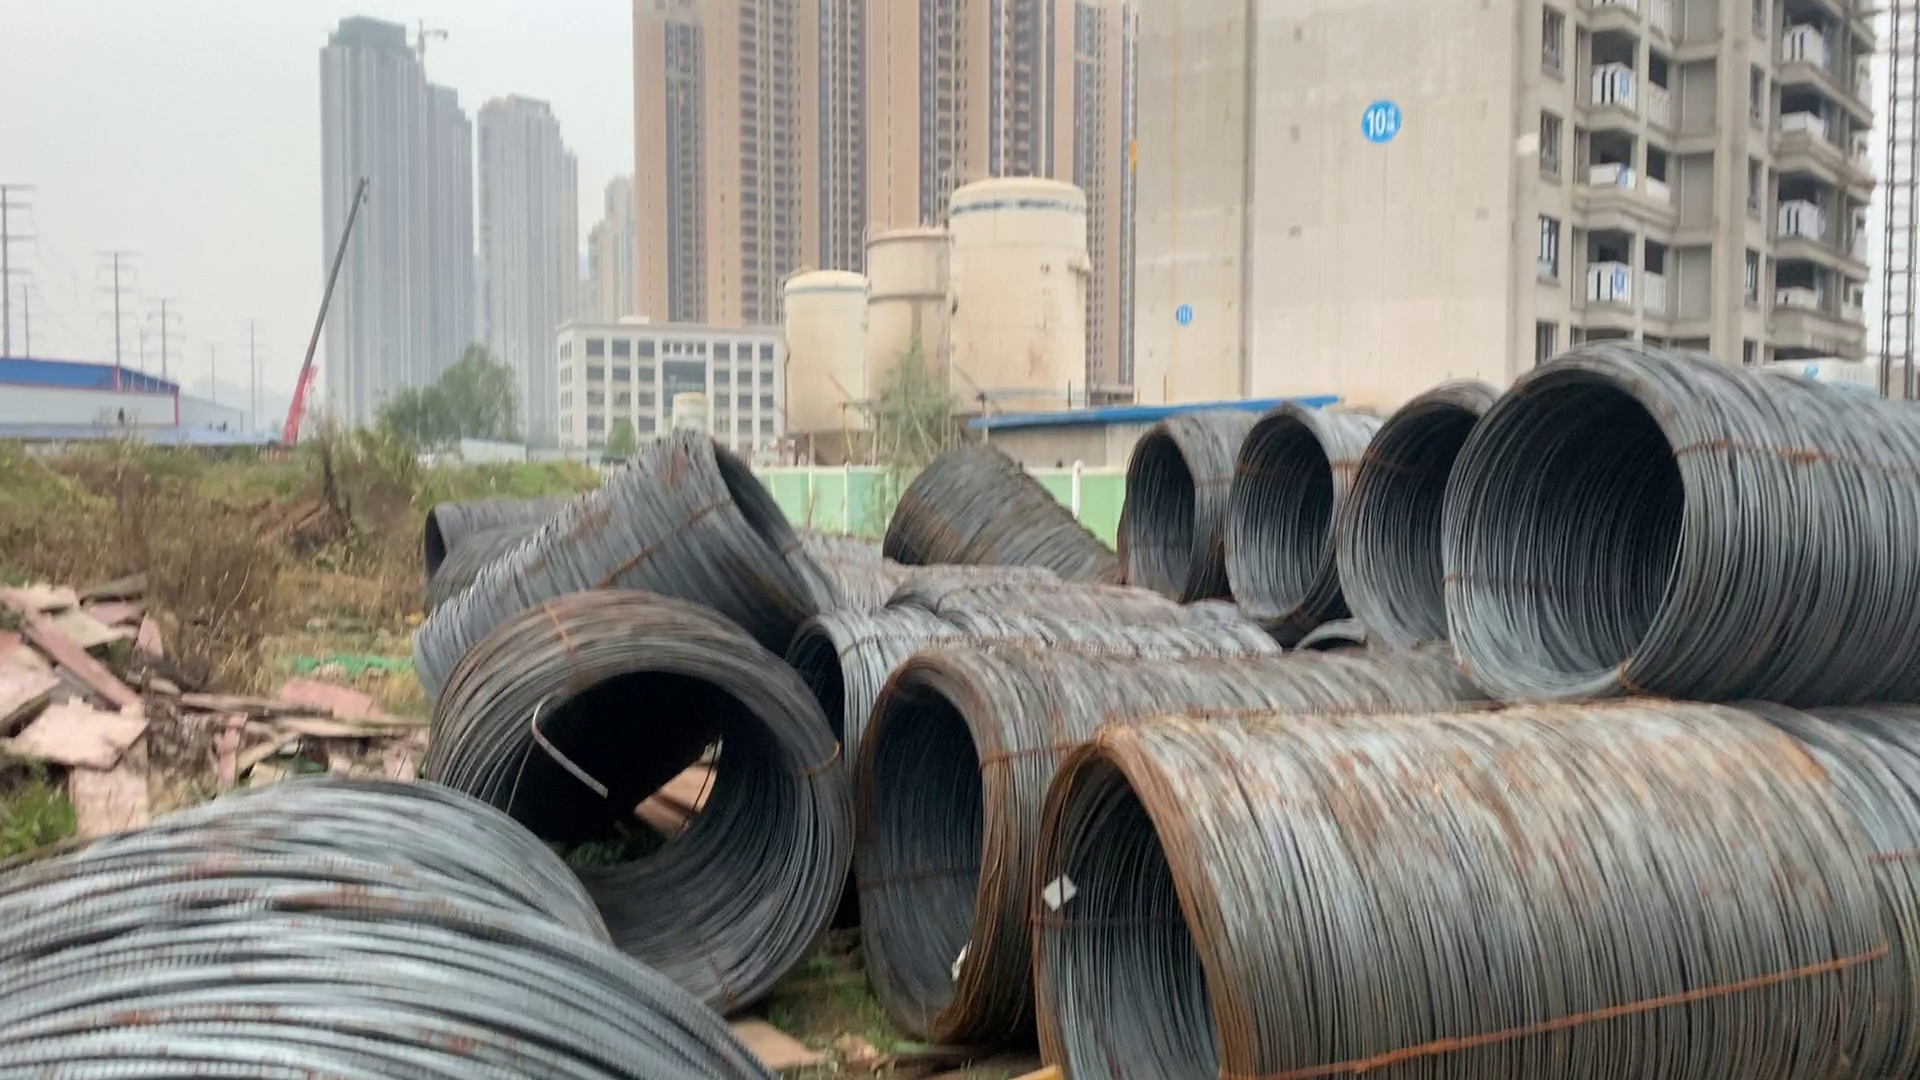coil: (463, 644, 849, 1033), (1440, 360, 1696, 713), (1029, 738, 1241, 1080), (849, 657, 1007, 1052), (1346, 402, 1487, 657), (682, 425, 849, 632), (1215, 404, 1349, 638), (1116, 413, 1215, 616), (415, 504, 454, 603)
